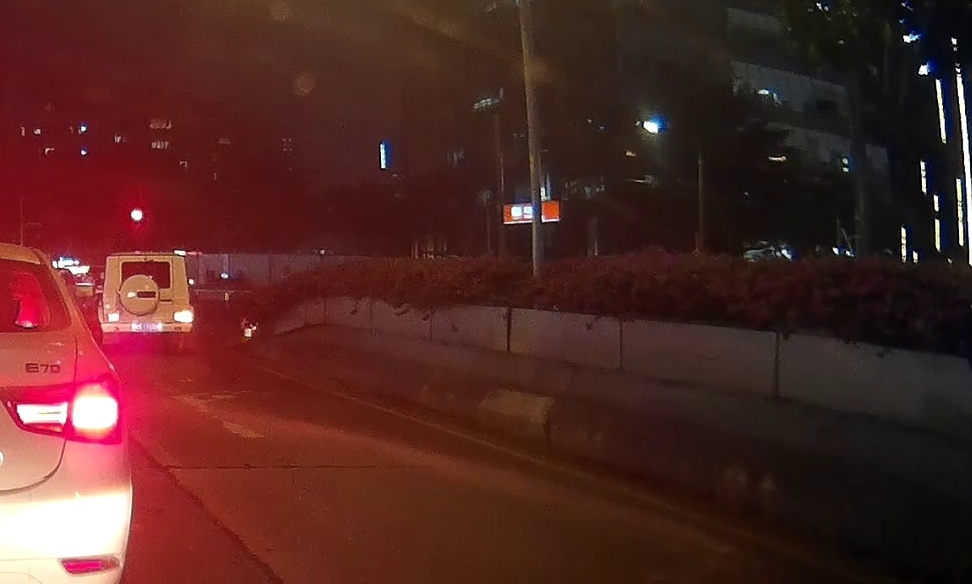L_light: (107, 313, 121, 323)
R_light: (173, 309, 192, 323)
T_light: (137, 262, 152, 265)
night-right: (98, 252, 194, 354)
